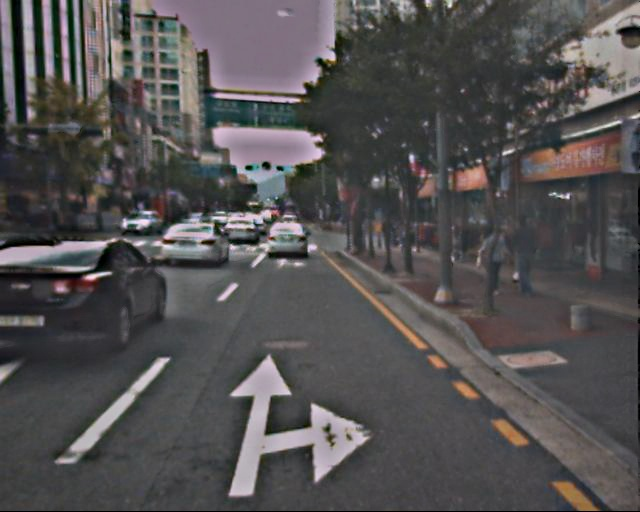person: (505, 216, 537, 294), (477, 223, 508, 298)
